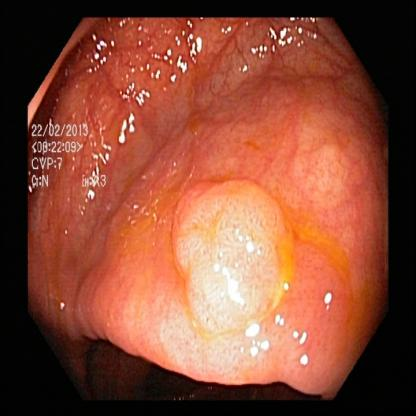Labels: (24, 116, 113, 192)
Polyps: (165, 181, 297, 328)
